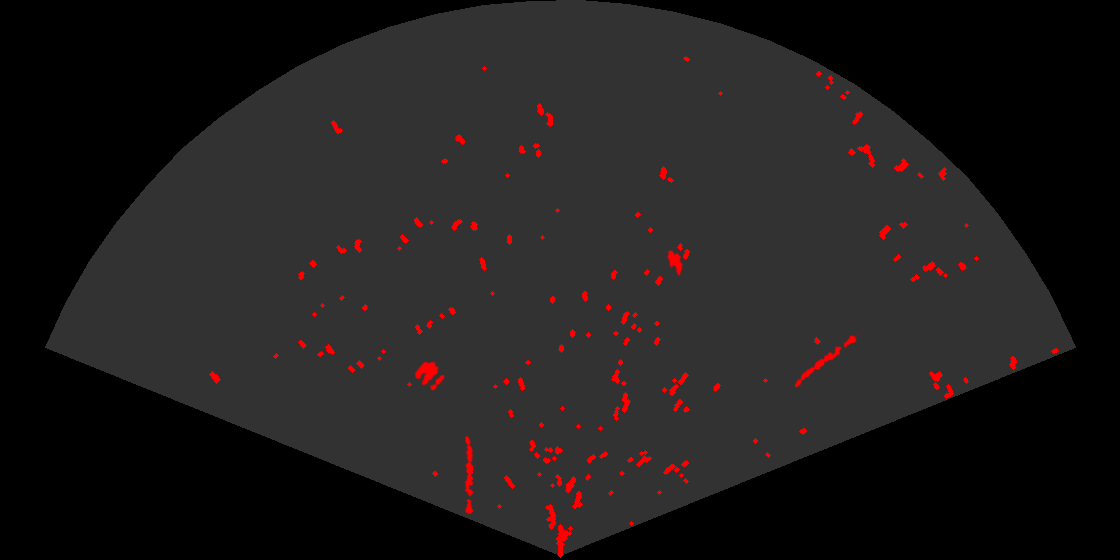AUV: (666, 248, 685, 278)
ball: (413, 360, 446, 392)
chain: (793, 330, 861, 389), (463, 434, 475, 514)
